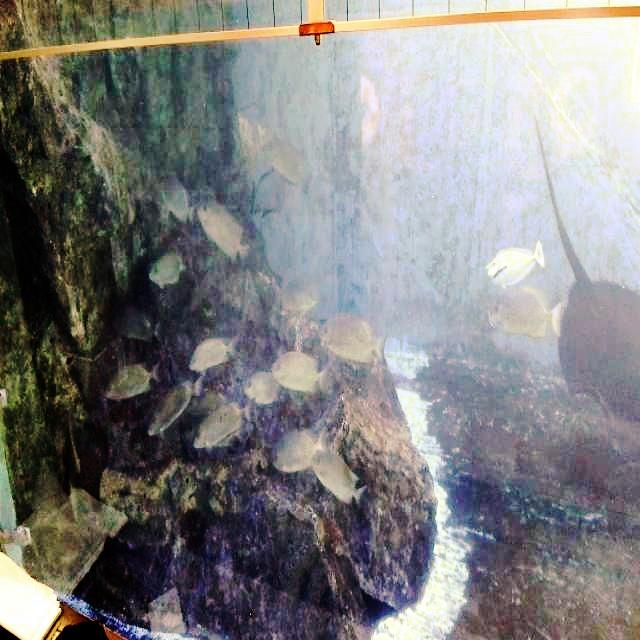gold snapper: (316, 301, 392, 378), (144, 354, 204, 448), (308, 438, 372, 520), (481, 285, 569, 343), (195, 192, 253, 278), (267, 346, 337, 404), (192, 394, 249, 458), (264, 428, 330, 482), (101, 356, 162, 406), (148, 164, 196, 227), (186, 336, 241, 380), (141, 242, 188, 292), (240, 366, 288, 412)
horn fish: (477, 236, 550, 294)
stringray: (529, 100, 640, 445)
